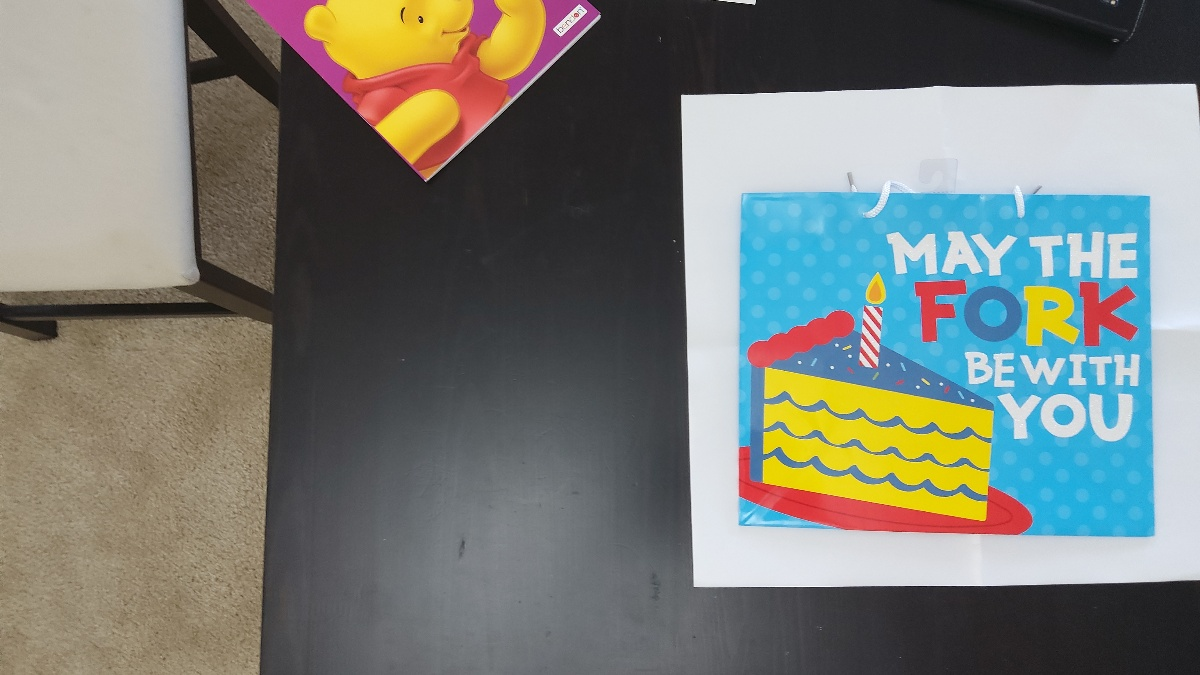paper_bag: (750, 198, 1148, 530)
